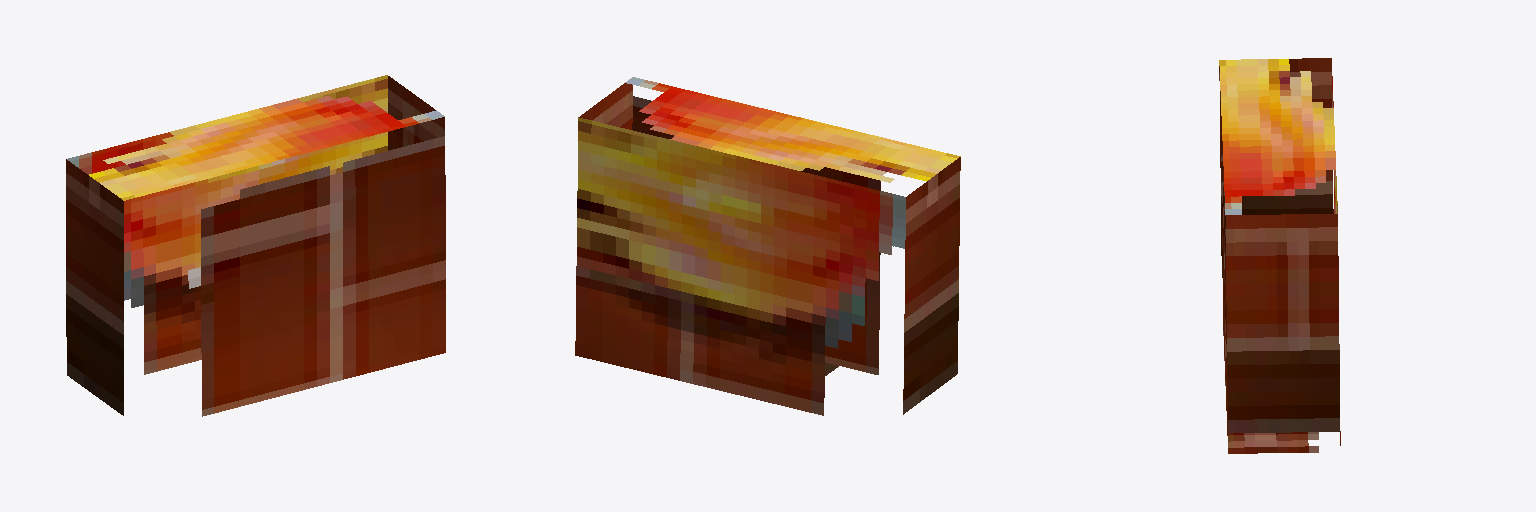
3 renders of one model, left to right at view 1: azimuth 30°, elevation 25°; view 2: azimuth 150°, elevation 25°; view 3: azimuth 270°, elevation 25°, orthographic.
Parts seen in each view (by area): view 1: Cube; view 2: Cube; view 3: Cube.
Part boxes in pixels (x1,y1,x2,y2): Cube: (66, 75, 445, 416); Cube: (575, 77, 960, 415); Cube: (1219, 58, 1340, 453).
Size of the model in its own units: 1.87 by 1.32 by 0.6005.
Materials: 1 (1 with a texture image).